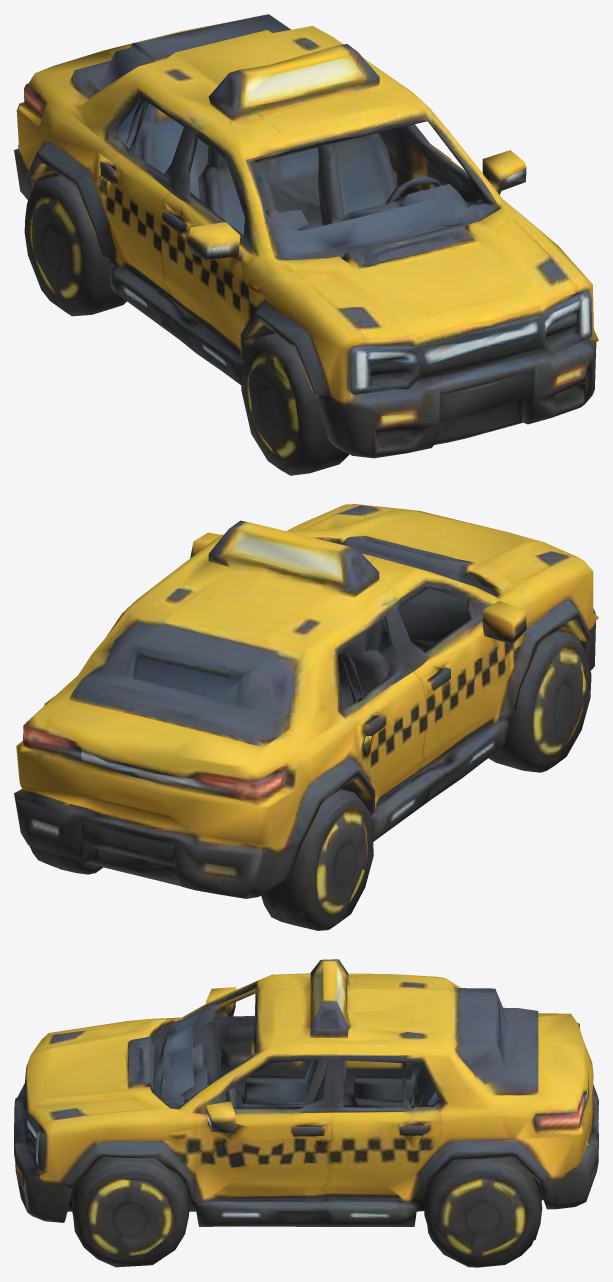
Rendered from env-car-1.glb.
3 views of the same model, one above another, from view 1: azimuth 30°, elevation 25°; view 2: azimuth 150°, elevation 25°; view 3: azimuth 270°, elevation 25° (orthographic). The views are drawn at different scales.
Visible parts, largest first — view 1: env-car-1; view 2: env-car-1; view 3: env-car-1.
Part boxes in pixels (left/top/right/bottom): env-car-1: left=14, top=14, right=598, bottom=475; env-car-1: left=14, top=504, right=598, bottom=930; env-car-1: left=14, top=959, right=598, bottom=1267.
Size of the model in its own units: 1.78 by 1.5 by 3.4.
Materials: 1 (1 with a texture image).
